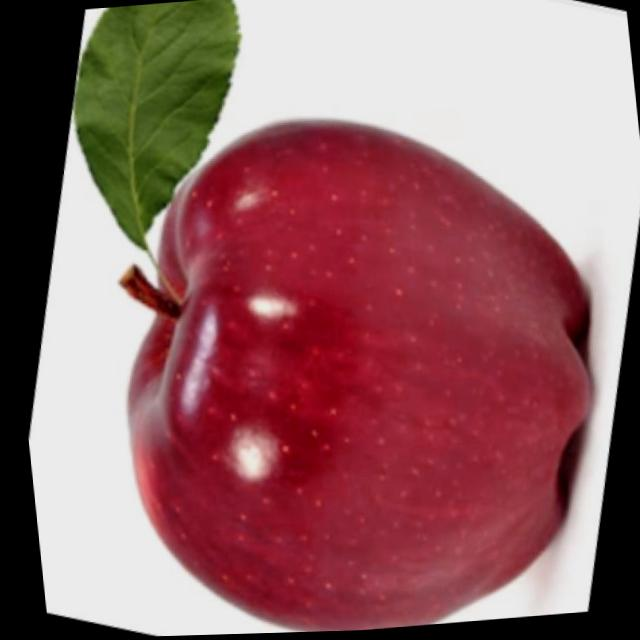Apple: (94, 98, 615, 638)
